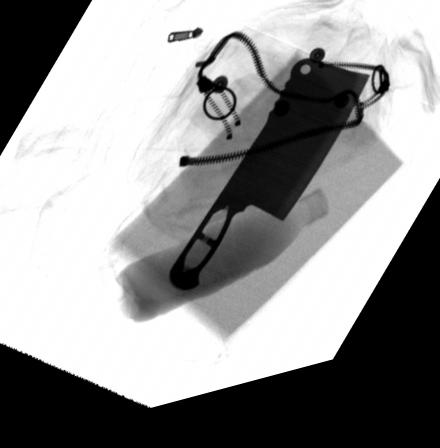Knife: (168, 74, 371, 302)
